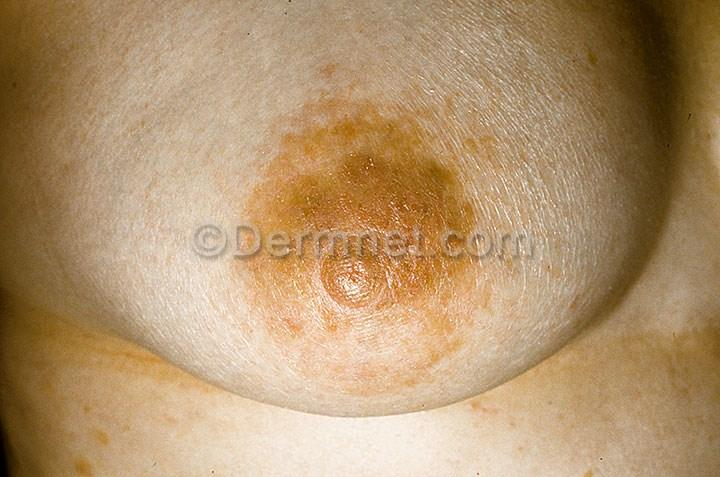Eczema: (424, 242, 506, 316), (377, 309, 466, 377), (323, 79, 409, 145), (364, 140, 432, 215), (257, 173, 321, 244), (416, 78, 467, 163), (427, 154, 480, 234), (259, 102, 326, 164), (248, 242, 314, 304), (306, 142, 374, 202), (59, 379, 135, 432), (457, 119, 520, 182), (350, 309, 399, 383), (61, 424, 129, 477), (290, 316, 355, 368), (391, 224, 438, 295), (297, 41, 355, 96), (461, 390, 523, 441), (541, 392, 600, 436), (326, 201, 380, 248), (267, 305, 304, 345), (566, 447, 613, 477)
